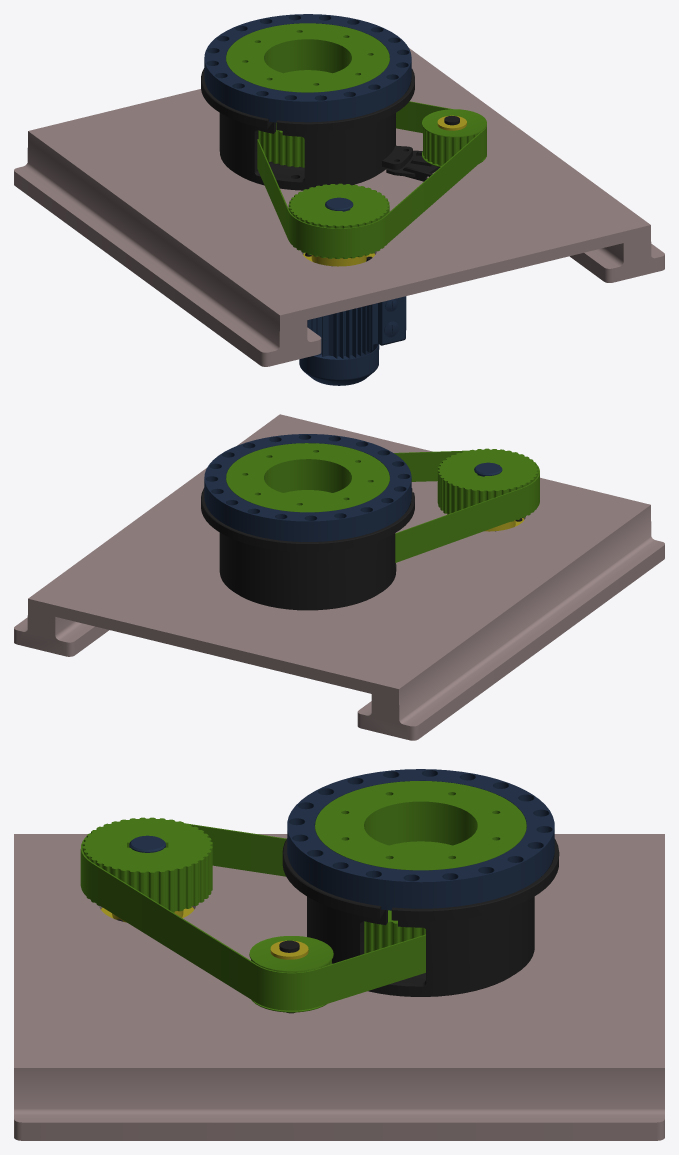
3 renders of one model, top to bottom at view 1: azimuth 30°, elevation 25°; view 2: azimuth 150°, elevation 25°; view 3: azimuth 270°, elevation 25°, orthographic. The views are drawn at different scales.
Visible parts, largest first — view 1: 置物檯, 隱藏物件_02, 隱藏物件_01, 修改後物件_01, 時規皮帶, 時規皮帶傳輸, 時規皮帶輪02, 時規皮帶輪01; view 2: 置物檯, 隱藏物件_02, 隱藏物件_01, 修改後物件_01, 時規皮帶, 時規皮帶傳輸; view 3: 置物檯, 時規皮帶, 隱藏物件_01, 隱藏物件_02, 修改後物件_01, 時規皮帶傳輸, 時規皮帶輪02, 時規皮帶輪01.
Boxes of the visible parts, x1,y1,x2,y2 form: 置物檯: (14,48,664,385); 隱藏物件_02: (201,68,414,190); 隱藏物件_01: (204,14,411,122); 修改後物件_01: (226,23,389,92); 時規皮帶: (257,101,486,257); 時規皮帶傳輸: (288,183,389,258); 時規皮帶輪02: (422,109,486,167); 時規皮帶輪01: (258,123,304,167); 置物檯: (14,414,664,740); 隱藏物件_02: (201,488,414,610); 隱藏物件_01: (204,434,411,541); 修改後物件_01: (226,443,389,512); 時規皮帶: (394,450,539,562); 時規皮帶傳輸: (437,448,538,521); 置物檯: (14,834,664,1140); 時規皮帶: (80,823,425,1010); 隱藏物件_01: (287,769,554,910); 隱藏物件_02: (282,838,559,996); 修改後物件_01: (315,781,526,870); 時規皮帶傳輸: (82,817,212,912); 時規皮帶輪02: (249,936,333,1012); 時規皮帶輪01: (364,910,425,953).
Size of the model in its own units: 74 by 38.6 by 80.
